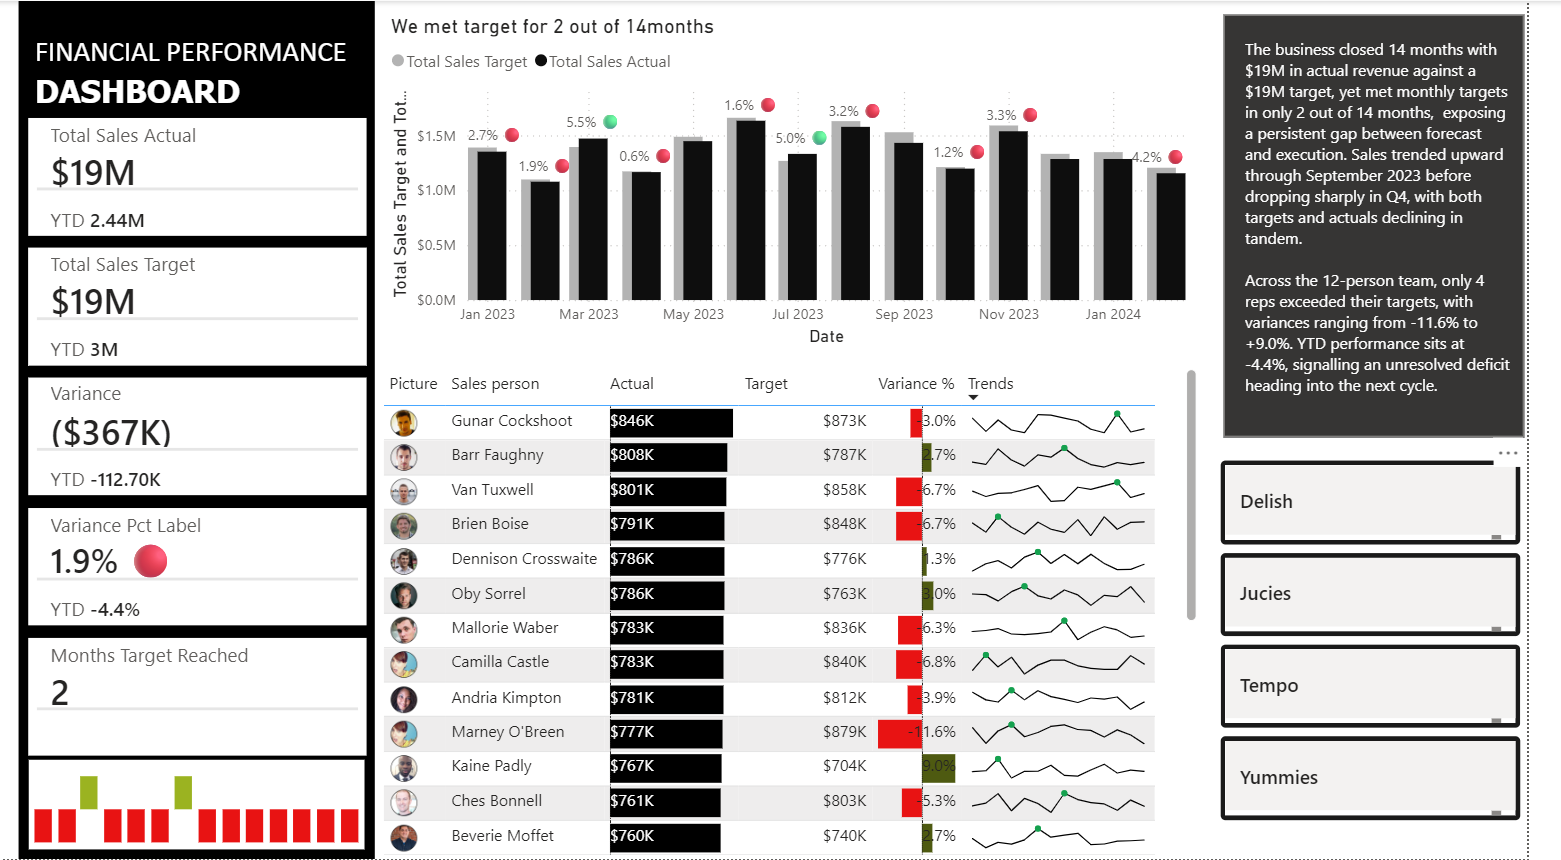

This screenshot's page, from the dashboard's own definition file:
{"tool":"powerbi","page":{"name":"Page 1","canvas":[1280,720],"ordinal":0},"visuals":[{"type":"shape","box":[15.9,0,298.6,720.3],"z":0},{"type":"cardVisual","fields":{"Data":["Actual.Total Sales Actual","Targets.Total Sales Target","Actual.Variance","Actual.Variance Pct Label","Actual.Months Target Reached"]},"box":[7.9,82.5,314.3,567.6],"z":1000},{"type":"clusteredColumnChart","fields":{"Category":["Calendar.Date"],"Y":["Actual.Target Status"]},"box":[24,636.4,281.6,75.5],"z":2000},{"type":"clusteredColumnChart","fields":{"Category":["Calendar.Date"],"Y":["Targets.Total Sales Target","Actual.Total Sales Actual"]},"box":[322.4,10.8,685.5,284],"z":3000},{"type":"tableEx","fields":{"Values":["dimPeople.Picture","dimPeople.Sales person","Actual.Total Sales Actual","Targets.Total Sales Target","Actual.Variance %","SparklineData(Actual.Total Sales Actual_[Calendar.Date])"]},"box":[325.6,304.1,693.1,416.1],"z":4000},{"type":"cardVisual","fields":{"Rows":["dimPeople.Team"]},"box":[1018.7,360.7,261.2,351.6],"z":5000},{"type":"textbox","box":[1026.3,11.5,251.6,354.3],"z":6000},{"type":"textbox","box":[15.8,11.3,306.4,43],"z":7000},{"type":"textbox","box":[15.8,40.7,203.5,41.8],"z":8000}]}

Visuals, with their boxes in screenshot pixels (x1, y1, x2, y2), scaled from the page's 1280x720 canvas onto the 1561x860 screenshot:
shape: box(19, 0, 384, 859)
cardVisual - Actual.Total Sales Actual x Targets.Total Sales Target: box(10, 99, 393, 777)
clusteredColumnChart - Calendar.Date x Actual.Target Status: box(29, 760, 373, 850)
clusteredColumnChart - Calendar.Date x Targets.Total Sales Target: box(393, 13, 1229, 352)
tableEx - dimPeople.Picture x dimPeople.Sales person: box(397, 363, 1242, 859)
cardVisual - dimPeople.Team: box(1242, 431, 1560, 851)
textbox: box(1252, 14, 1558, 437)
textbox: box(19, 13, 393, 65)
textbox: box(19, 49, 267, 99)
